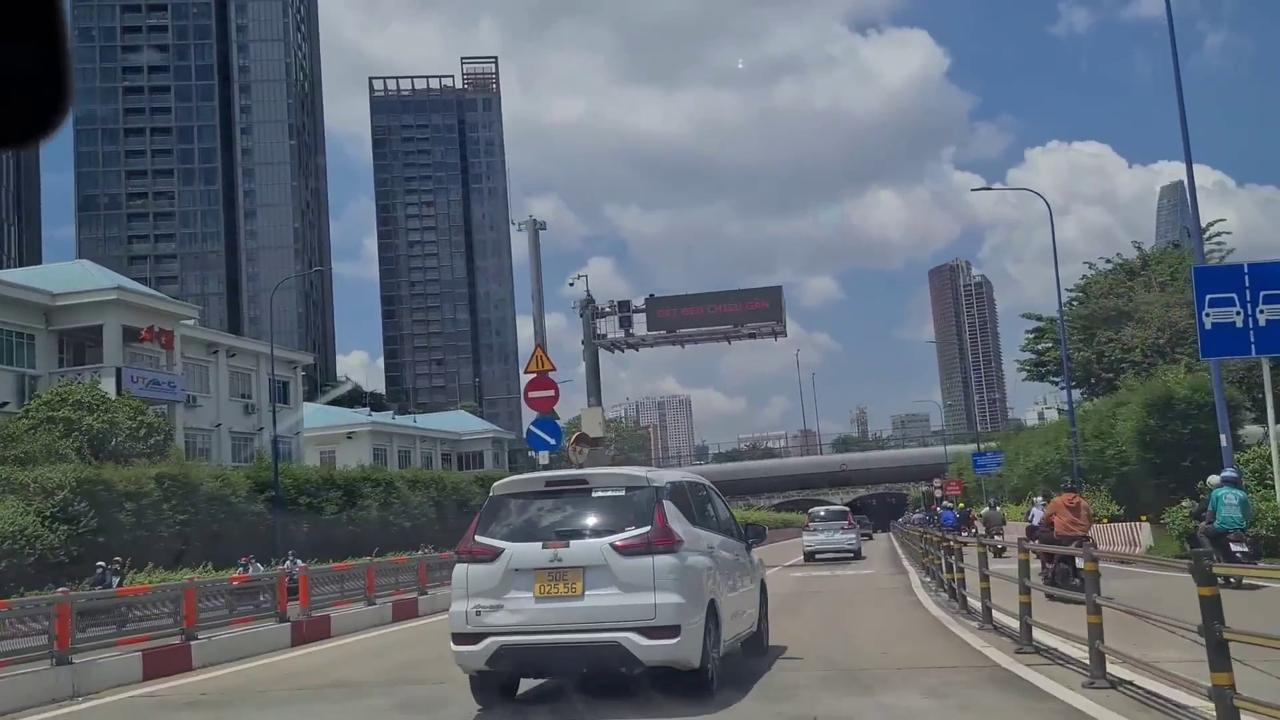Cấm đi ngược chiều: (524, 373, 561, 413)
Hướng phải đi vòng sang phải: (524, 415, 565, 454)
Đuờng hẹp: (522, 344, 558, 377)
